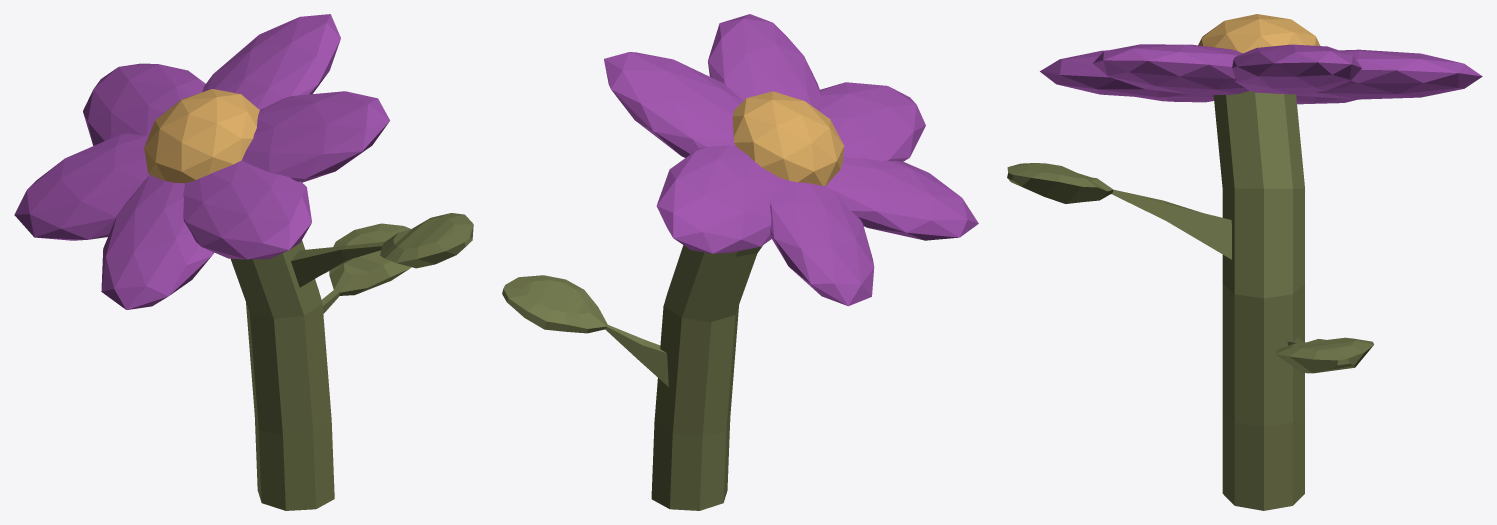
The model's file is Flower_01.fbx.
The picture shows the model from 3 angles, left to right: view 1: azimuth 30°, elevation 25°; view 2: azimuth 150°, elevation 25°; view 3: azimuth 270°, elevation 25°; orthographic projection. The views are drawn at different scales.
Parts seen in each view (by area): view 1: Cylinder.026, Icosphere.053, Icosphere.052, Icosphere.054, Icosphere.051, Icosphere.049, Icosphere.055, Icosphere.050; view 2: Cylinder.026, Icosphere.050, Icosphere.051, Icosphere.055, Icosphere.052, Icosphere.049, Icosphere.054, Icosphere.053; view 3: Cylinder.026, Icosphere.054, Icosphere.050, Icosphere.055, Icosphere.049, Icosphere.053.
Boxes of the visible parts, <box> form: Cylinder.026: <box>230,213,473,510</box>; Icosphere.053: <box>183,160,311,259</box>; Icosphere.052: <box>101,175,214,309</box>; Icosphere.054: <box>242,91,389,182</box>; Icosphere.051: <box>14,133,149,240</box>; Icosphere.049: <box>144,89,259,183</box>; Icosphere.055: <box>202,14,340,109</box>; Icosphere.050: <box>83,63,205,145</box>; Cylinder.026: <box>502,245,762,510</box>; Icosphere.050: <box>656,145,778,253</box>; Icosphere.051: <box>769,177,874,306</box>; Icosphere.055: <box>604,52,742,157</box>; Icosphere.052: <box>826,157,978,240</box>; Icosphere.049: <box>732,91,844,185</box>; Icosphere.054: <box>708,14,822,108</box>; Icosphere.053: <box>816,82,925,161</box>; Cylinder.026: <box>1007,91,1373,510</box>; Icosphere.054: <box>1093,44,1249,94</box>; Icosphere.050: <box>1296,49,1482,99</box>; Icosphere.055: <box>1232,44,1361,94</box>; Icosphere.049: <box>1198,14,1320,53</box>; Icosphere.053: <box>1040,50,1213,98</box>.
Bounding box in the file's own units: 36.77 × 40.85 × 37.92.
